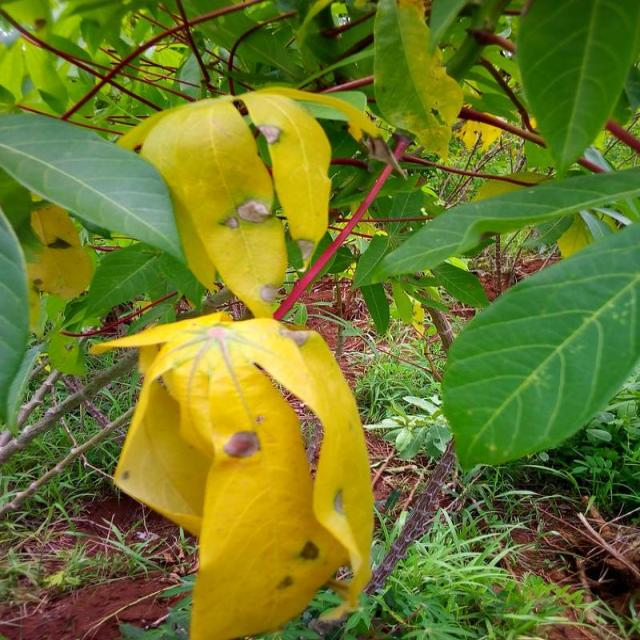cassava leaf: (91, 309, 376, 638), (116, 87, 334, 319), (442, 218, 640, 471), (354, 164, 640, 289), (516, 0, 640, 177), (372, 0, 466, 158)
